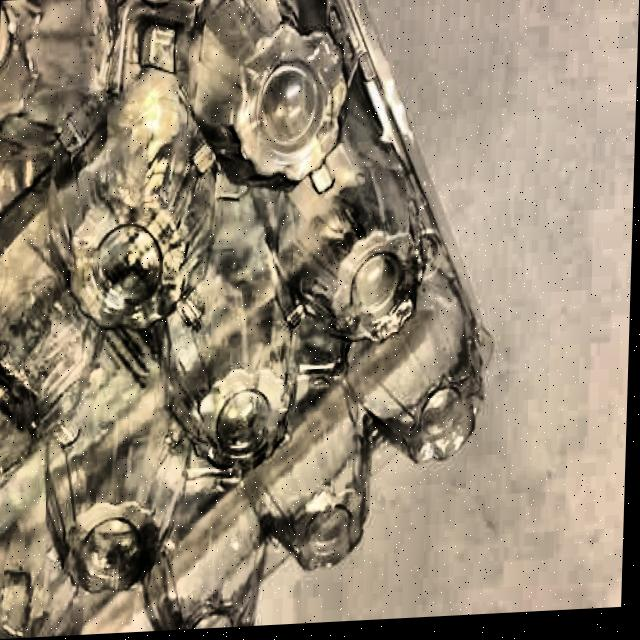plastic: (0, 0, 505, 640)
